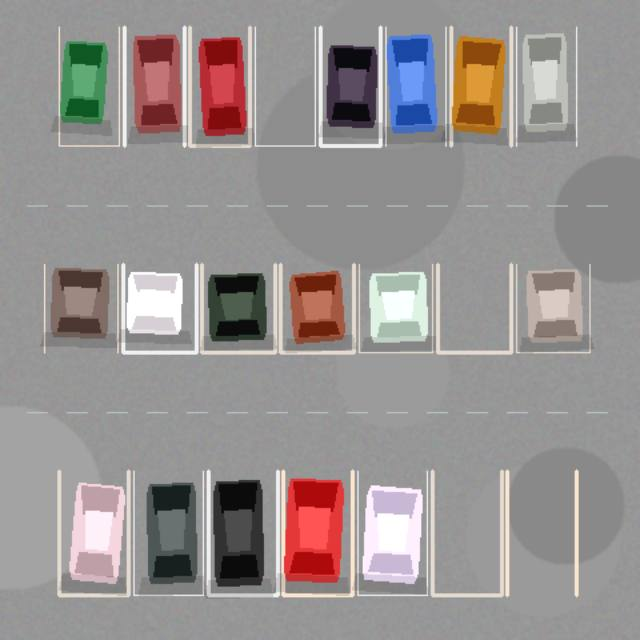space-empty: (432, 471, 501, 595), (507, 471, 576, 595), (255, 27, 315, 145), (437, 264, 511, 352)
space-occupied: (133, 471, 203, 595), (357, 471, 427, 595), (59, 471, 128, 595), (208, 471, 277, 595), (283, 471, 352, 595), (59, 27, 119, 145), (124, 27, 184, 145), (189, 27, 249, 145), (320, 27, 380, 145), (385, 27, 445, 145), (451, 27, 511, 145), (516, 27, 576, 145), (201, 264, 275, 352), (44, 264, 117, 352), (123, 264, 196, 352), (280, 264, 353, 352), (359, 264, 432, 352), (516, 264, 589, 352)
